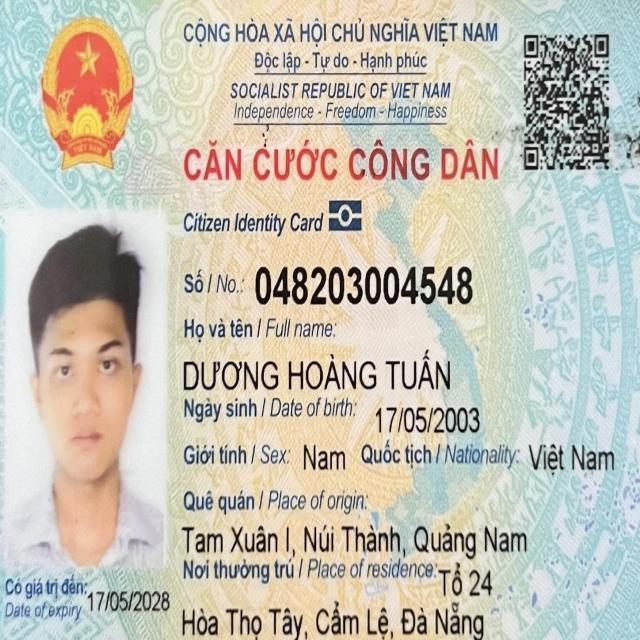current_place: (179, 598, 487, 640), (436, 560, 498, 601)
dob: (373, 401, 482, 438)
expire_date: (85, 583, 172, 618)
gender: (300, 437, 349, 477)
id: (252, 259, 476, 311)
name: (181, 345, 453, 395)
nationality: (526, 438, 617, 481)
origin_place: (179, 520, 529, 562)
qr: (519, 24, 613, 176)
